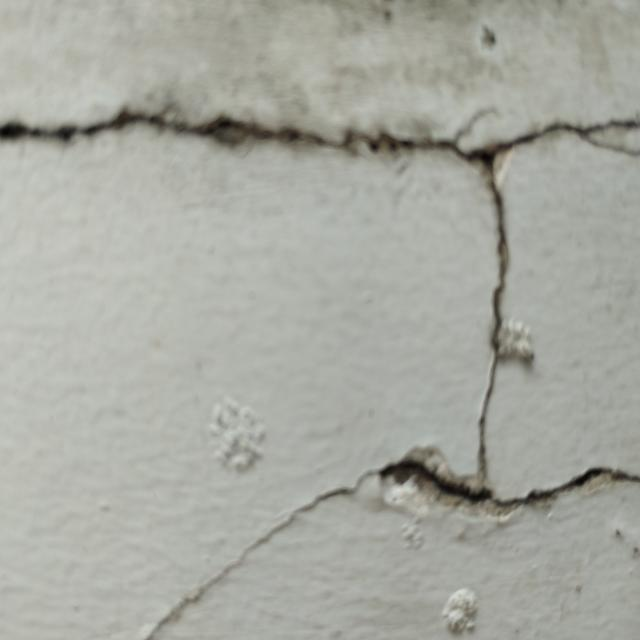branched cracks: (0, 109, 639, 639)
